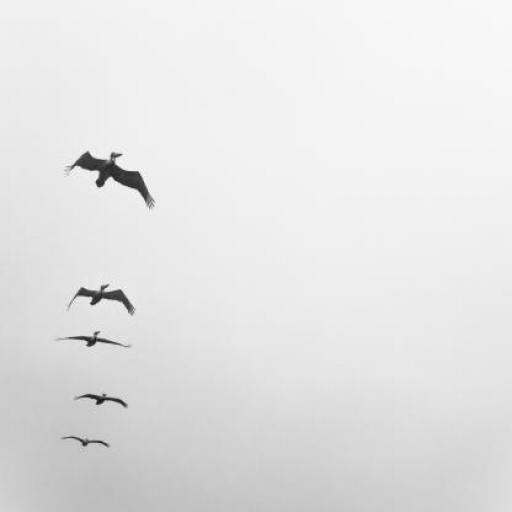bird: (64, 152, 155, 210), (66, 283, 136, 318), (55, 331, 133, 351), (74, 392, 129, 410), (62, 436, 110, 449)
